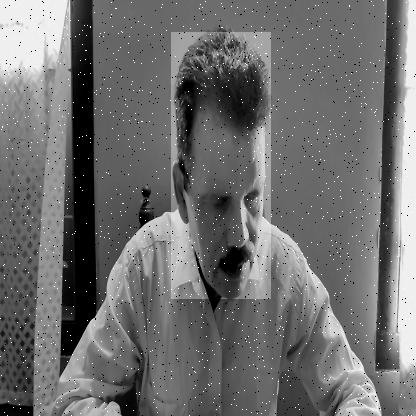Distracted: (171, 32, 271, 299)
